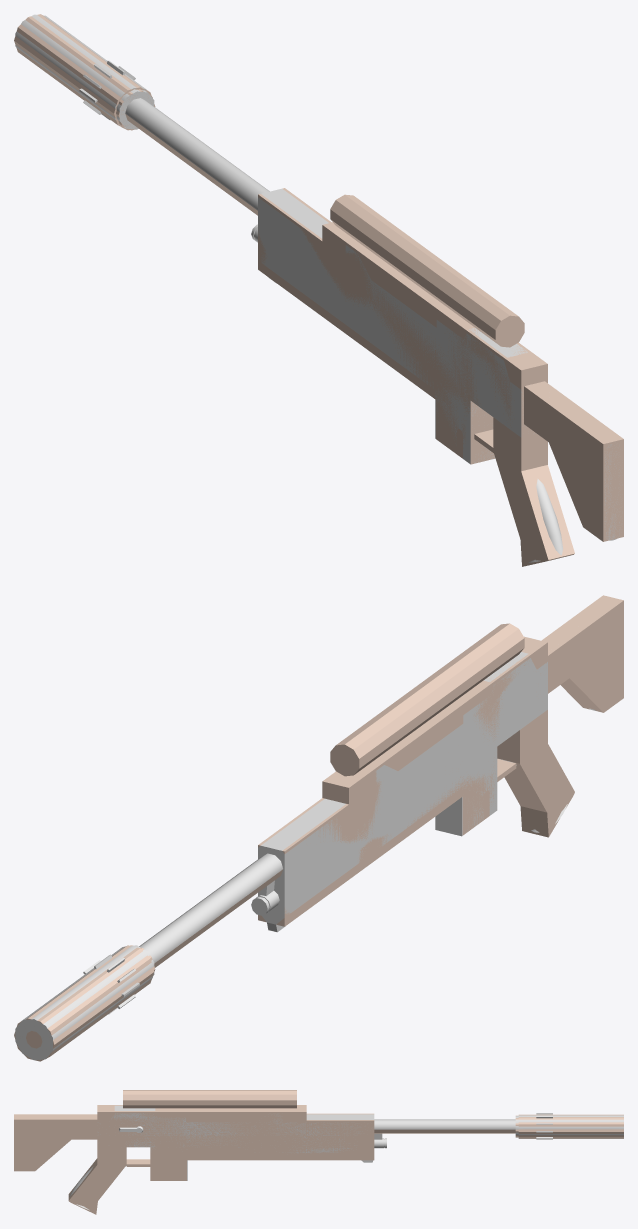
File: Thillium_Pattern_Long_Las_With_LODs.fbx
The picture shows the model from 3 angles, top to bottom: view 1: azimuth 30°, elevation 25°; view 2: azimuth 150°, elevation 25°; view 3: azimuth 270°, elevation 25°; orthographic projection. The views are drawn at different scales.
Visible parts, largest first — view 1: UTM_FireGeo, Thilium_Pattern_Long_Las_LOD0; view 2: UTM_FireGeo, Thilium_Pattern_Long_Las_LOD0; view 3: UTM_FireGeo, Thilium_Pattern_Long_Las_LOD0.
Boxes of the visible parts, x1,y1,x2,y2 form: UTM_FireGeo: [14, 14, 623, 566]; Thilium_Pattern_Long_Las_LOD0: [15, 14, 620, 562]; UTM_FireGeo: [14, 595, 623, 1061]; Thilium_Pattern_Long_Las_LOD0: [15, 652, 595, 1060]; UTM_FireGeo: [14, 1090, 623, 1214]; Thilium_Pattern_Long_Las_LOD0: [69, 1105, 623, 1210].
Size of what is drawn, in the model's own units: 6.16 by 30.11 by 138.
